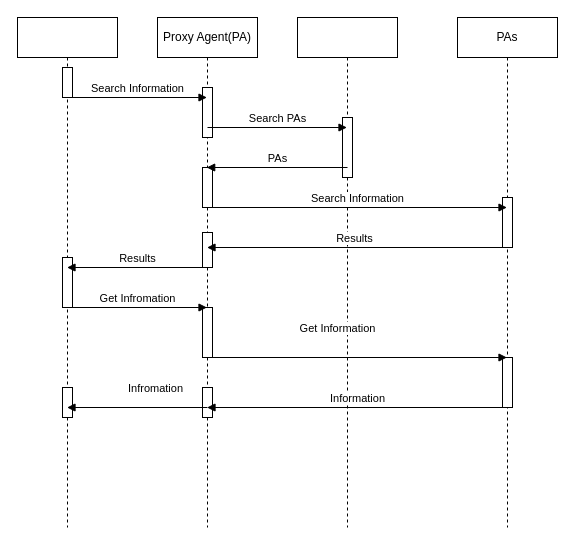
Image size: 575x545. Some labels were removed from this diagram. Here are the shapes that lost their labels. From the top down, the box of each, then its label:
(16, 16, 118, 528): User
(296, 16, 398, 528): Directory Facilators (DF)
